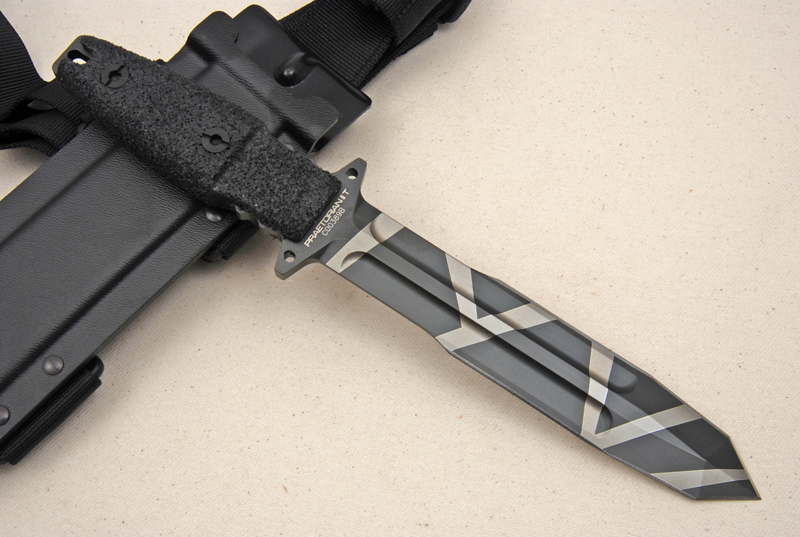knife: (264, 153, 772, 516)
